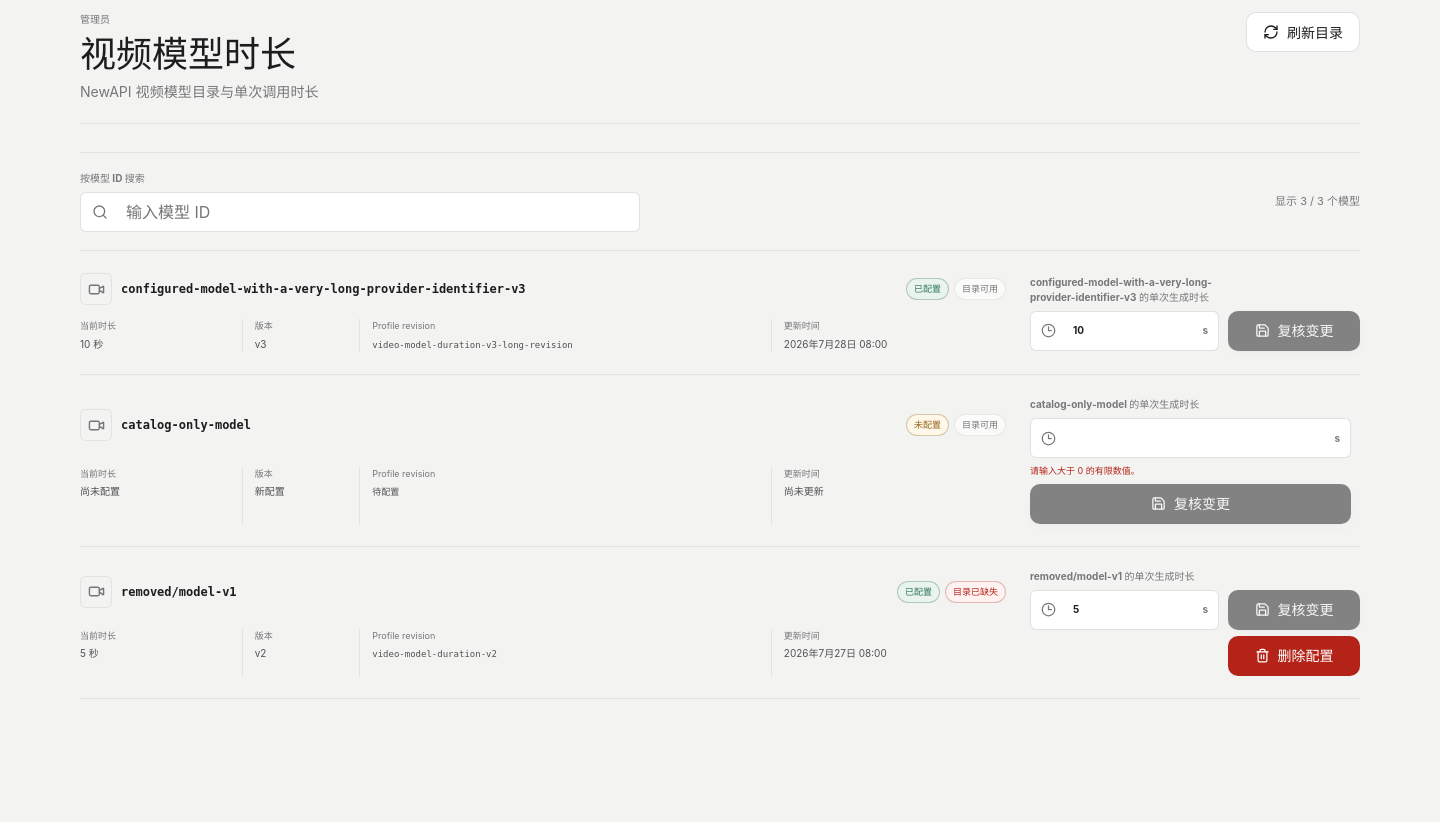
Scenario: VideoModelAdminPage › shows API-backed configured, unconfigured, and catalog-missing states
The width and height of the screenshot is (1440, 822).
Expected: the heading "视频模型时长" is shown, [80,34,319,74]
Expected: the text "已配置" is shown 2 times, [906,278,949,300]; [897,581,940,603]
In the search field labelled "按模型 ID 搜索": (372, 212) [116,193,628,231], type "catalog-only"
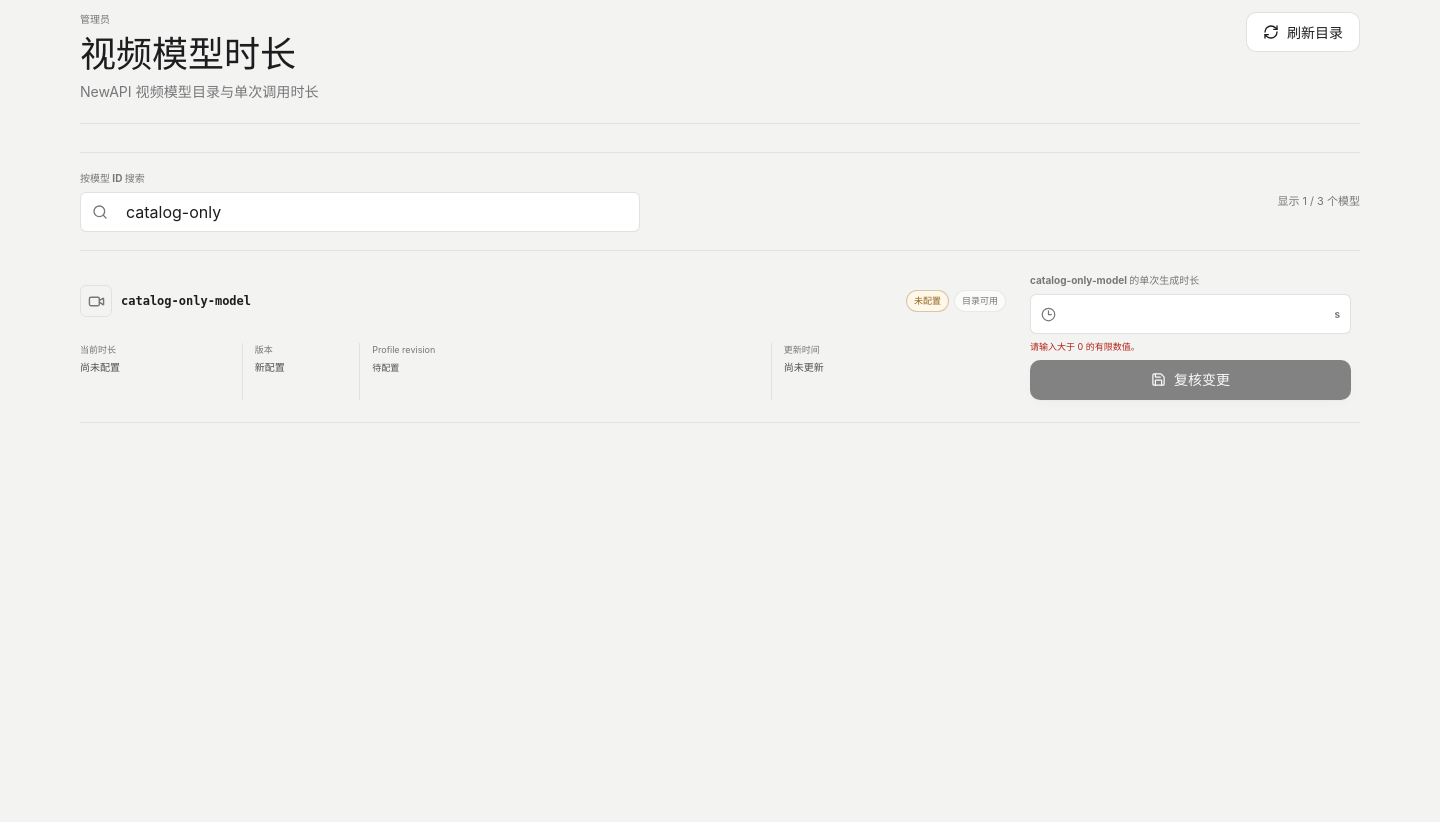
Expected: the text "catalog-only-model" is shown, [121,294,251,308]
Expected: the text "removed/model-v1" is gone
